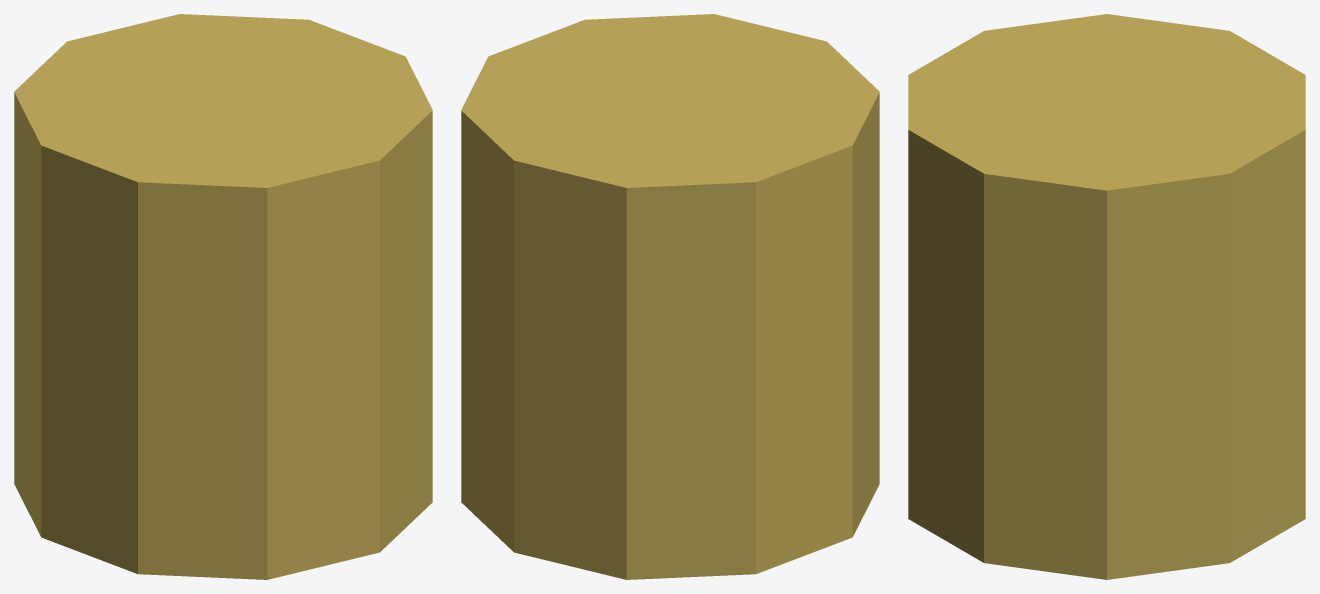
Rendered from SM_Pipe_Hyd_DropElbow.fbx.
The picture shows the model from 3 angles, left to right: view 1: azimuth 30°, elevation 25°; view 2: azimuth 150°, elevation 25°; view 3: azimuth 270°, elevation 25°; orthographic projection.
Parts seen in each view (by area): view 1: SM_Pipe_Hyd_DropElbow; view 2: SM_Pipe_Hyd_DropElbow; view 3: SM_Pipe_Hyd_DropElbow.
Boxes of the visible parts, x1,y1,x2,y2 form: SM_Pipe_Hyd_DropElbow: (14,14,432,579); SM_Pipe_Hyd_DropElbow: (461,14,879,579); SM_Pipe_Hyd_DropElbow: (908,14,1305,579).
Size of the model in its own units: 14.6 by 13.89 by 15.
